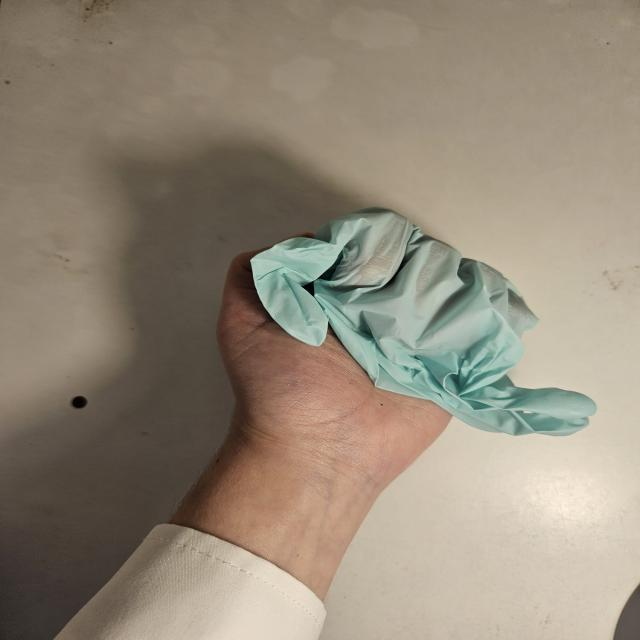glove_partial: (219, 208, 599, 467)
